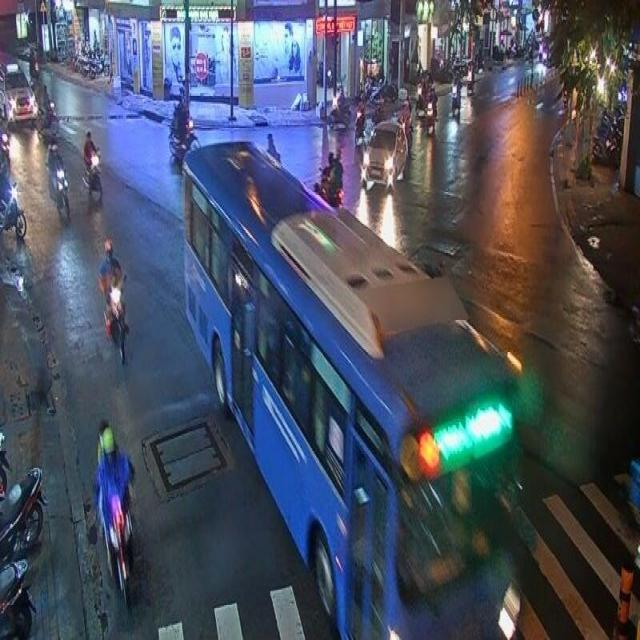bus: (184, 140, 517, 640)
car: (364, 119, 406, 184)
motorcycle: (96, 421, 134, 608), (99, 242, 126, 361), (45, 145, 70, 224)
